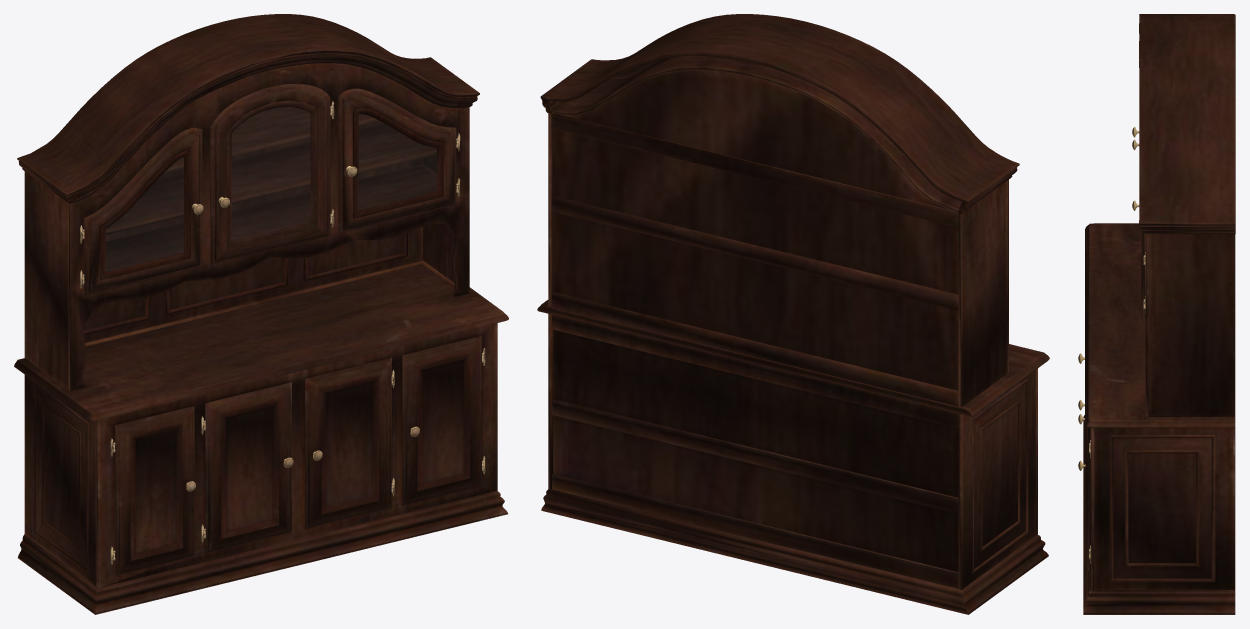
File: wardrobe.glb
3 renders of one model, left to right at view 1: azimuth 30°, elevation 25°; view 2: azimuth 150°, elevation 25°; view 3: azimuth 270°, elevation 25°, orthographic. The views are drawn at different scales.
Parts seen in each view (by area): view 1: vintage_cabinet_01_body, vintage_cabinet_01_door_03, vintage_cabinet_01_door_01, vintage_cabinet_01_door_04, vintage_cabinet_01_door_06, vintage_cabinet_01_door_07, vintage_cabinet_01_door_05, vintage_cabinet_01_door_02; view 2: vintage_cabinet_01_body; view 3: vintage_cabinet_01_body, vintage_cabinet_01_door_02, vintage_cabinet_01_door_04.
Part boxes in pixels (x1,y1,x2,y2): vintage_cabinet_01_body: (14,14,508,614); vintage_cabinet_01_door_03: (210,83,332,264); vintage_cabinet_01_door_01: (82,127,203,295); vintage_cabinet_01_door_04: (338,88,458,233); vintage_cabinet_01_door_06: (204,382,293,553); vintage_cabinet_01_door_07: (305,357,392,529); vintage_cabinet_01_door_05: (113,406,195,575); vintage_cabinet_01_door_02: (402,336,483,505); vintage_cabinet_01_body: (537,14,1049,614); vintage_cabinet_01_body: (1083,14,1235,614); vintage_cabinet_01_door_02: (1078,427,1090,572); vintage_cabinet_01_door_04: (1132,200,1145,319).
Size of the model in its own units: 2.02 by 2.23 by 0.6697.
Materials: 3 (2 with a texture image).
